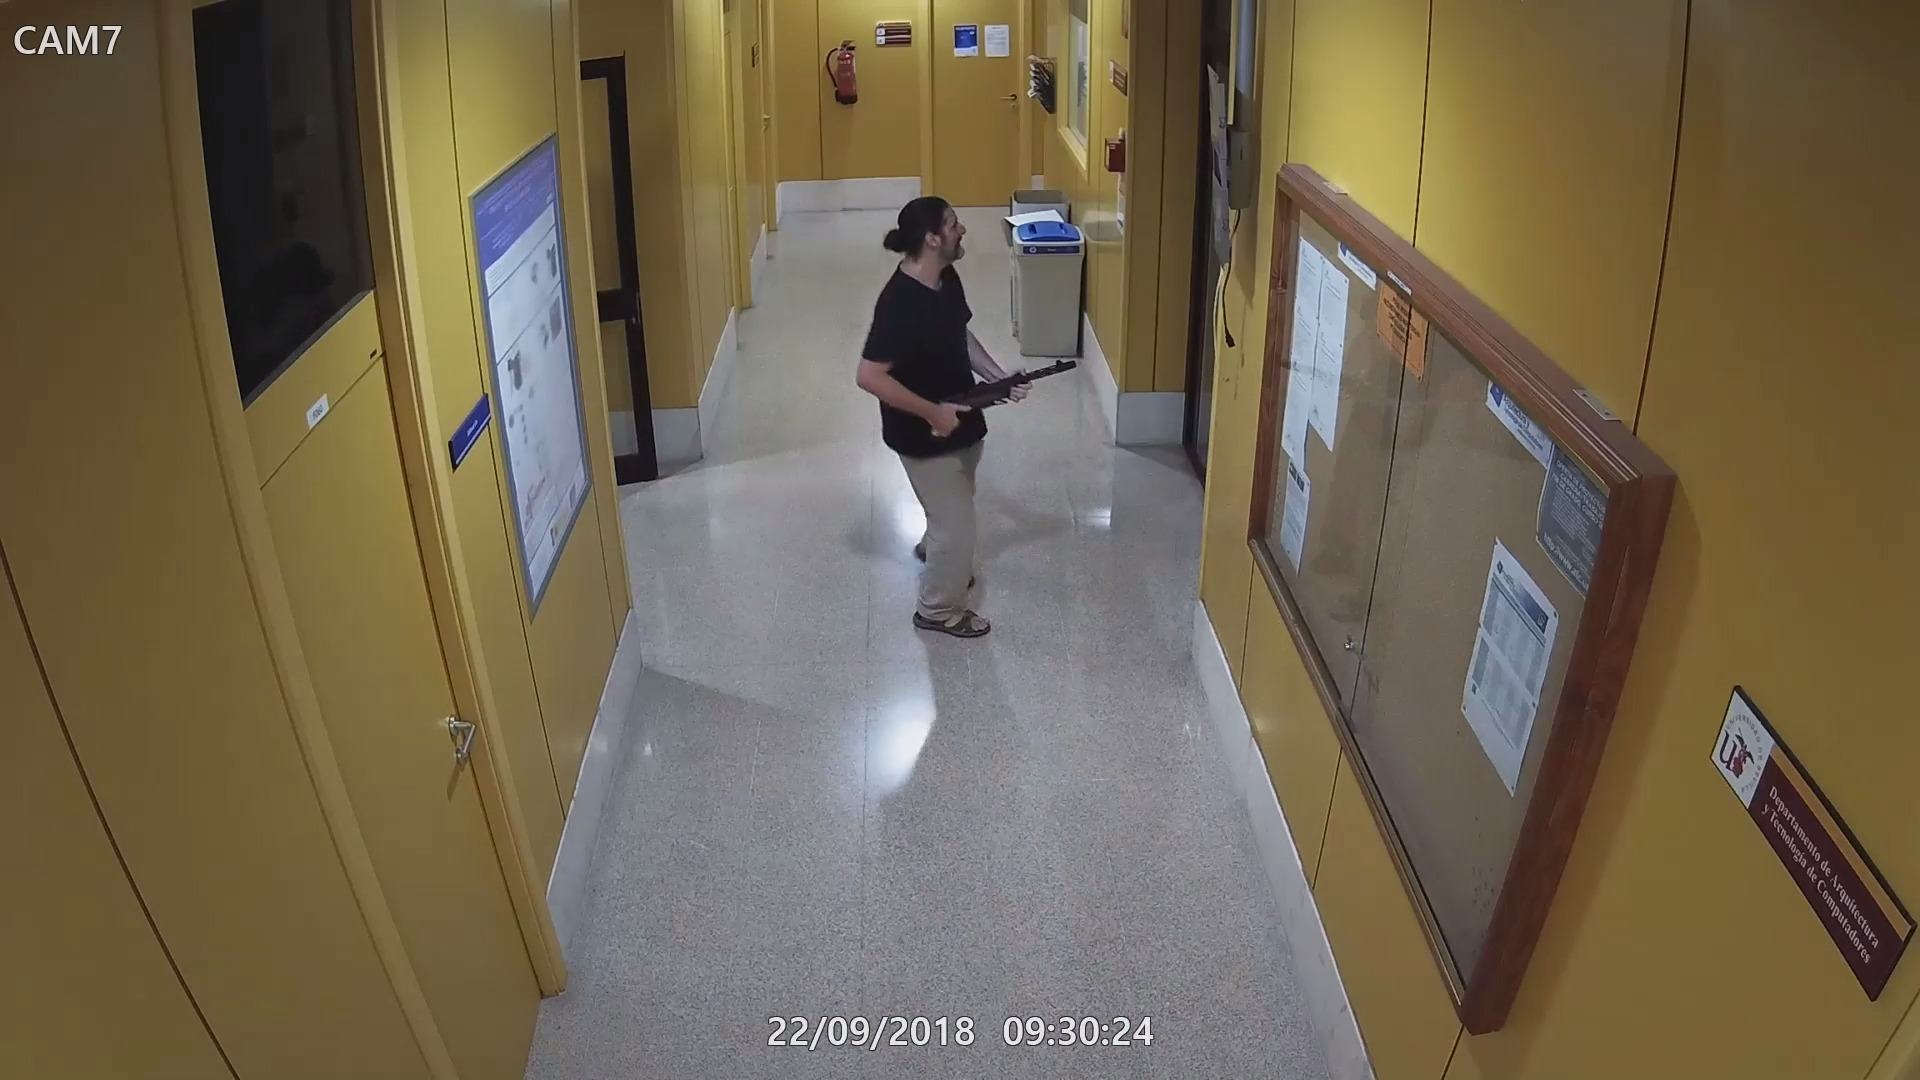Short_rifle: (901, 357, 1084, 434)
